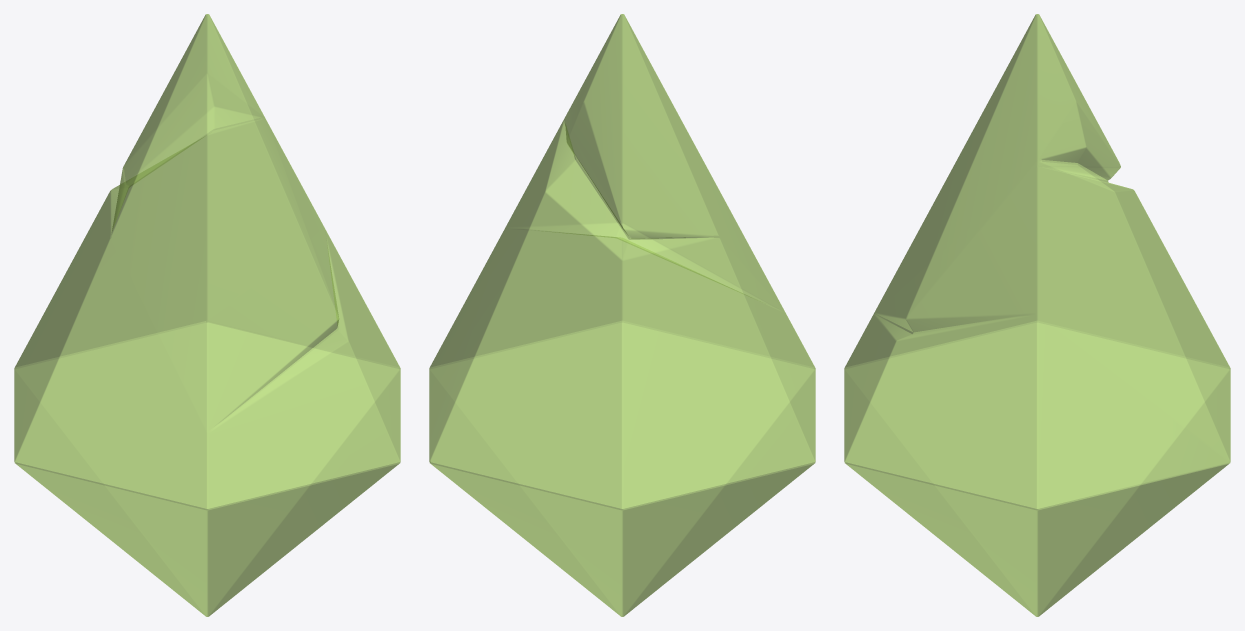
The model's file is houseki0602.fbx.
The picture shows the model from 3 angles, left to right: view 1: azimuth 30°, elevation 25°; view 2: azimuth 150°, elevation 25°; view 3: azimuth 270°, elevation 25°; orthographic projection.
Visible parts, largest first — view 1: houseki6_0001:pCone1; view 2: houseki6_0001:pCone1; view 3: houseki6_0001:pCone1.
Part boxes in pixels (bbox=[...]): houseki6_0001:pCone1: bbox=[14, 14, 400, 616]; houseki6_0001:pCone1: bbox=[429, 14, 815, 616]; houseki6_0001:pCone1: bbox=[844, 14, 1230, 616].
Bounding box in the file's own units: 52.02 × 77.62 × 45.17.
